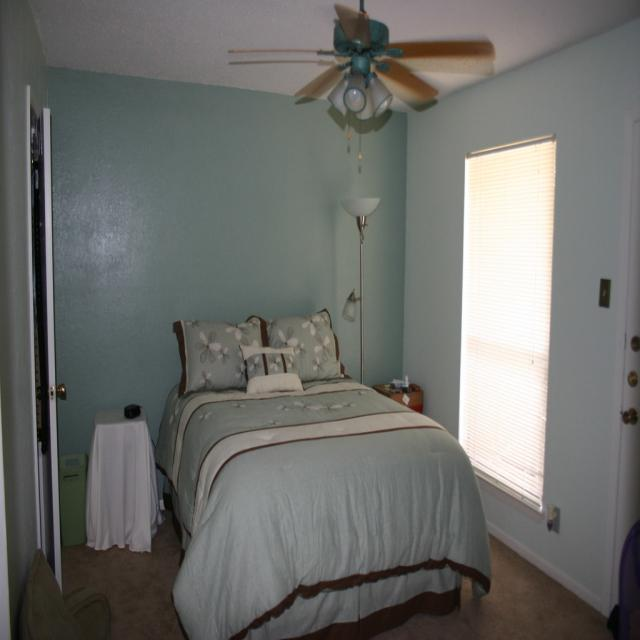Bulb: (229, 0, 496, 160)
